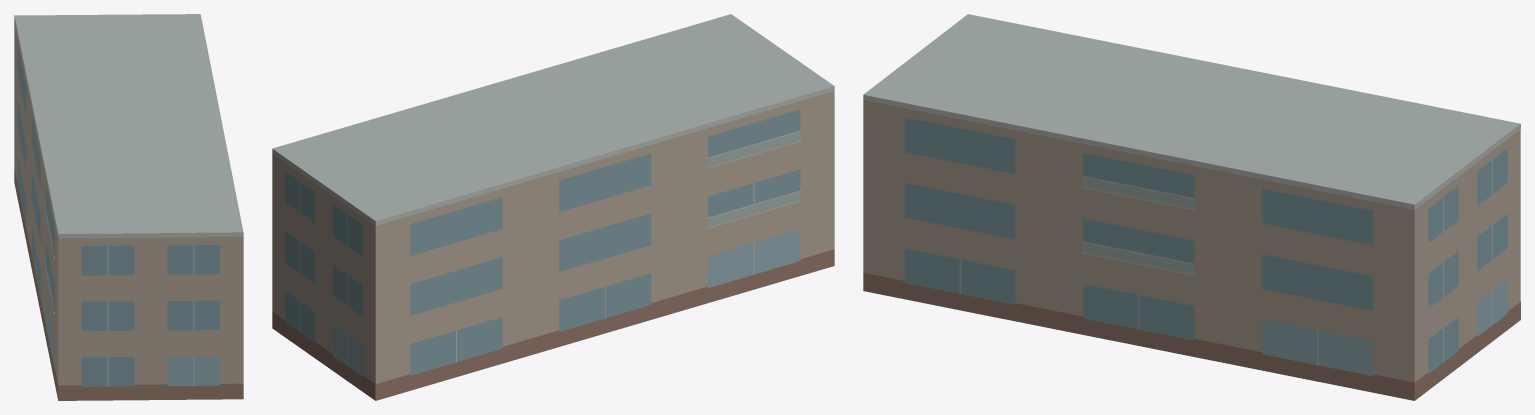
File: survey-upis-32478211.glb
3 views of the same model, side by side, from view 1: azimuth 30°, elevation 25°; view 2: azimuth 150°, elevation 25°; view 3: azimuth 270°, elevation 25° (orthographic). The views are drawn at different scales.
Parts seen in each view (by area): view 1: survey-upis-32478211.tmp; view 2: survey-upis-32478211.tmp; view 3: survey-upis-32478211.tmp.
Boxes of the visible parts, x1=… form: survey-upis-32478211.tmp: x1=14, y1=14, x2=243, y2=400; survey-upis-32478211.tmp: x1=272, y1=14, x2=834, y2=400; survey-upis-32478211.tmp: x1=863, y1=14, x2=1520, y2=400.
Size of the model in its own units: 19.08 by 9.15 by 27.8.
